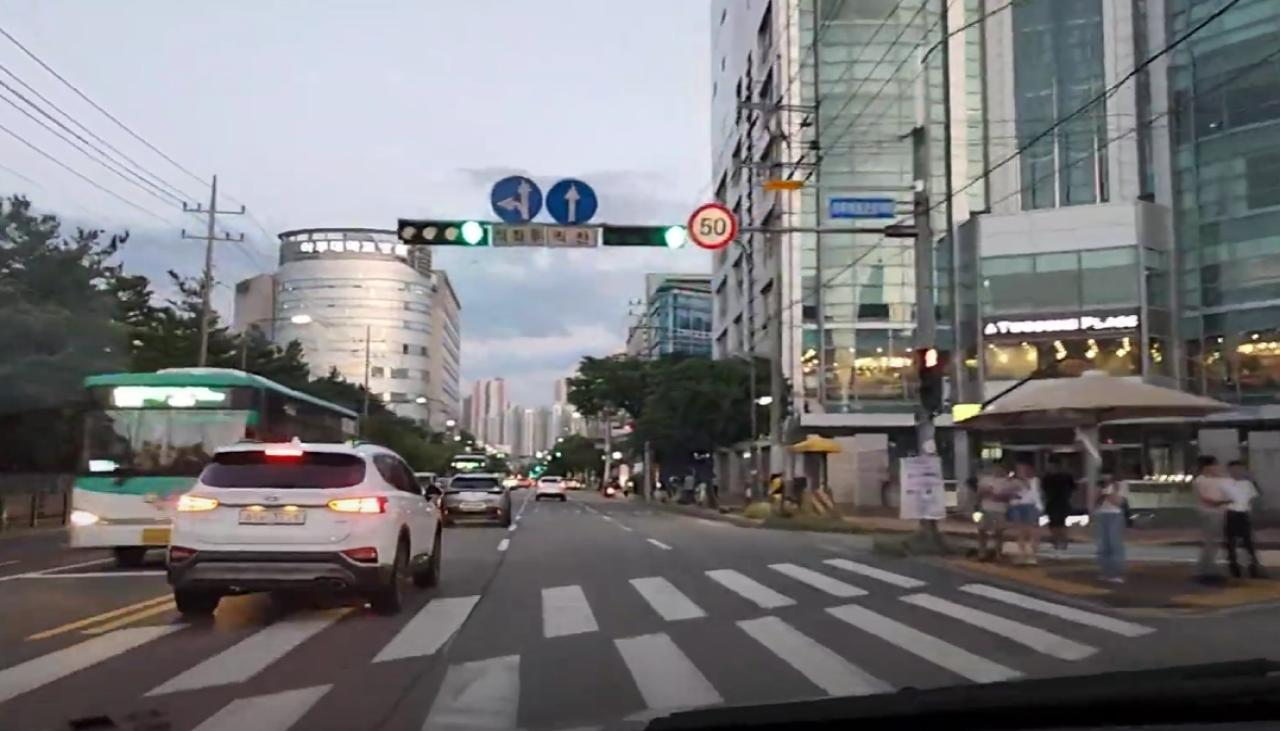Green Light: (458, 218, 486, 246), (662, 223, 688, 251)
